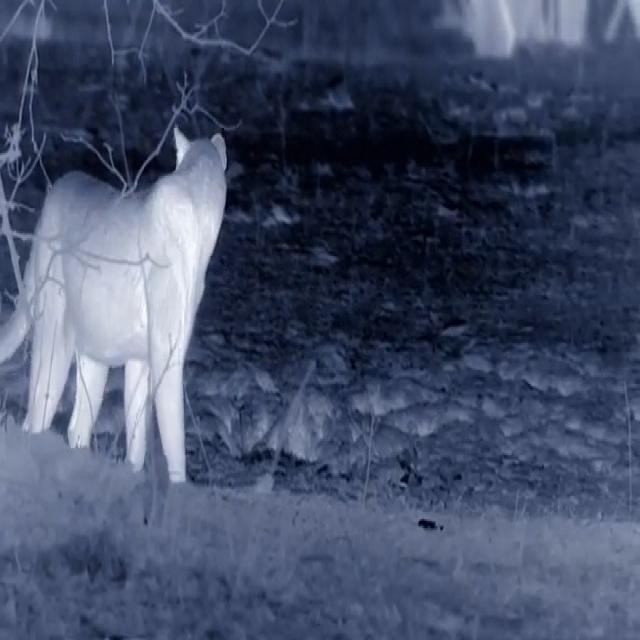animal: (0, 99, 283, 553)
